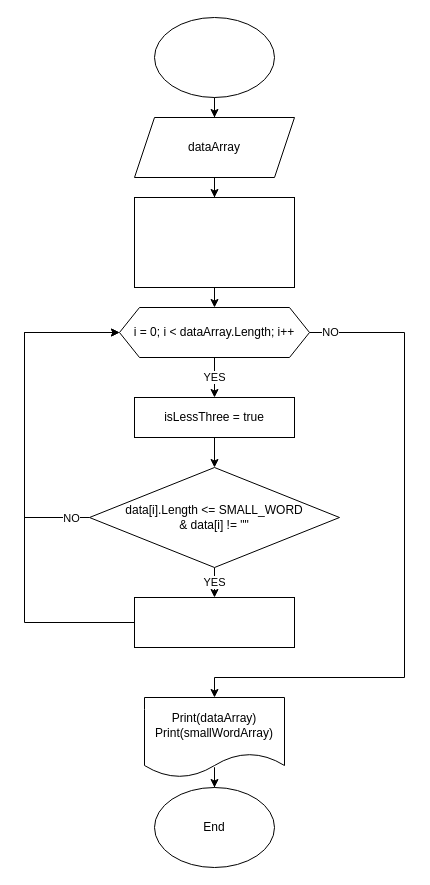
Some shapes in this 430 by 885 pixel diagram are drawn without their labels. The shapes that lost their labels are listed below. From the top down, each one's centre as x and y in pixels, then its label:
the point at 214,57: Start
the point at 214,242: SMALL_WORD = 3 smallWordArray k = 0
the point at 214,622: smallWordArray[k] = data[i] k++
